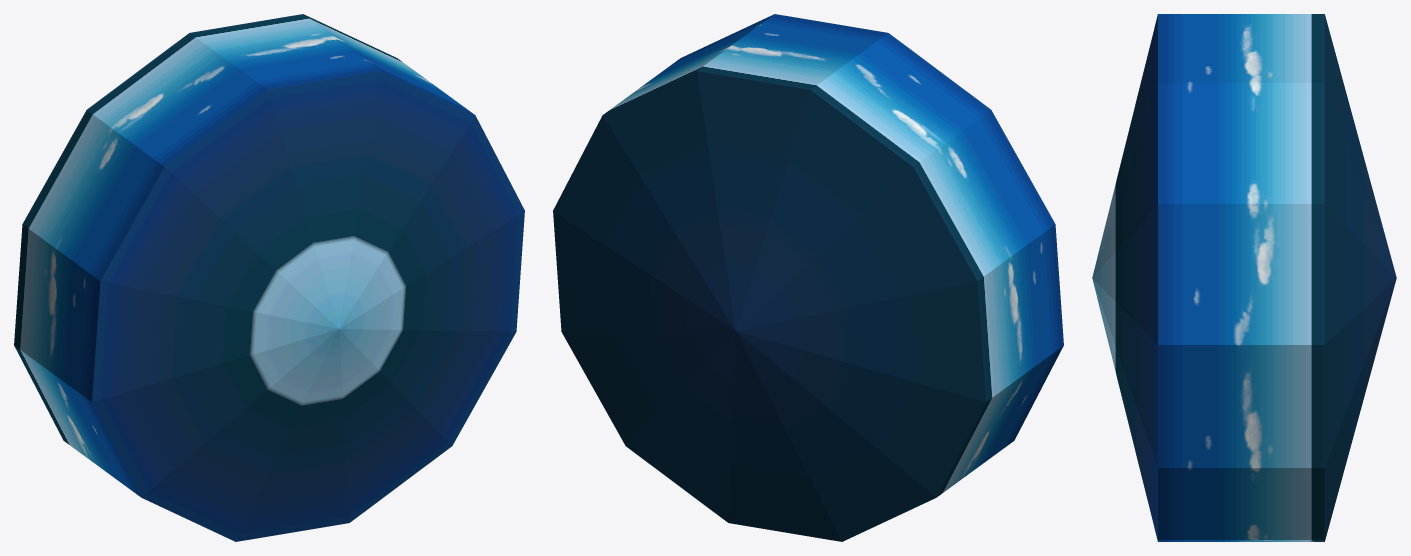
File: circuit-peach-skybox.glb
3 renders of one model, left to right at view 1: azimuth 30°, elevation 25°; view 2: azimuth 150°, elevation 25°; view 3: azimuth 270°, elevation 25°, orthographic. The views are drawn at different scales.
Visible parts, largest first — view 1: course_model_v; view 2: course_model_v; view 3: course_model_v.
Boxes of the visible parts, x1,y1,x2,y2 form: course_model_v: (14, 14, 524, 541); course_model_v: (553, 14, 1063, 541); course_model_v: (1092, 14, 1396, 541).
Bounding box in the file's own units: 511 × 511 × 291.
Materials: 1 (1 with a texture image).
